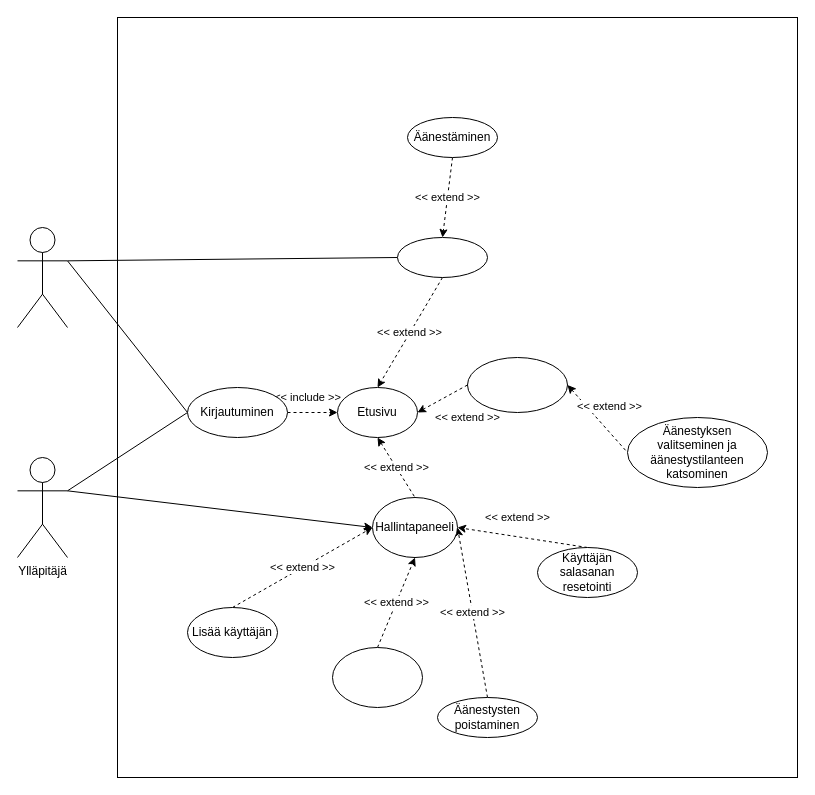
Some shapes in this 815 by 795 pixel diagram are drawn without their labels. The shapes that lost their labels are listed below. From the top down, each one's centre as x and y in pixels, then its label:
point 42,277: Käyttäjä
point 442,257: Sovelluksen valitseminen
point 517,384: Äänestysten selailu
point 377,677: Uusien äänestysten tekeminen
